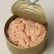paper: (3, 0, 50, 54)
